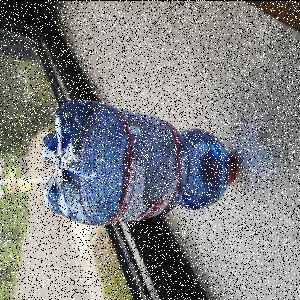Plastic-bottle: (41, 99, 239, 227)
